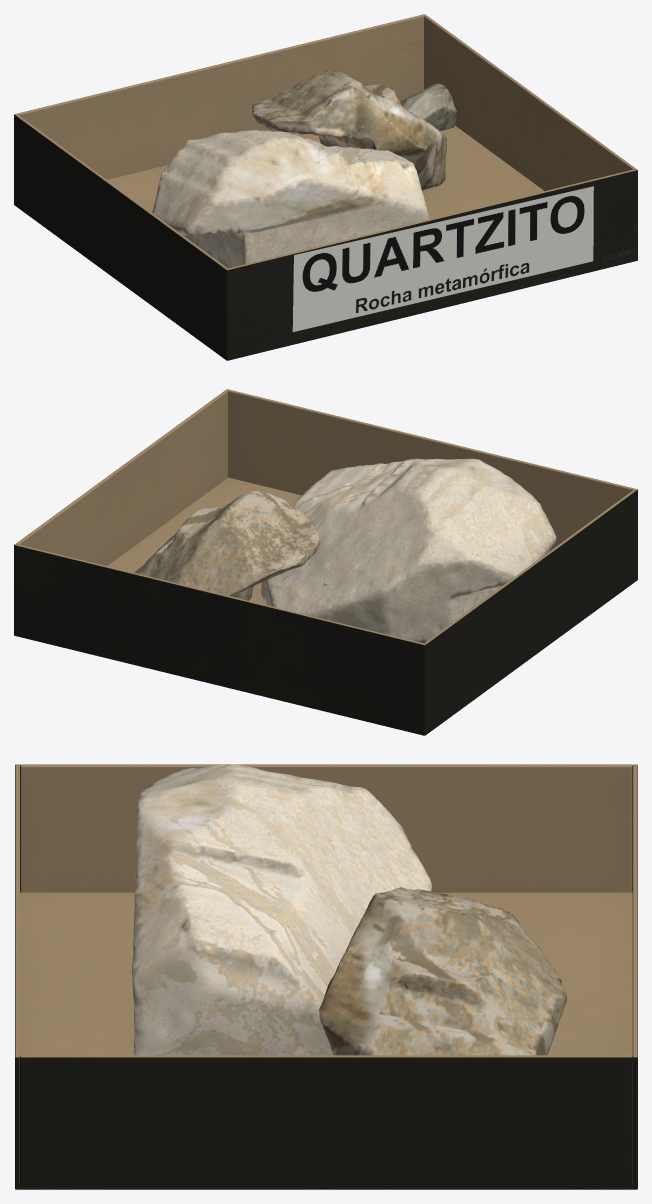
Rendered from rocha_02_15_quartzito.glb.
3 views of the same model, one above another, from view 1: azimuth 30°, elevation 25°; view 2: azimuth 150°, elevation 25°; view 3: azimuth 270°, elevation 25° (orthographic). The views are drawn at different scales.
Parts seen in each view (by area): view 1: Fragmento_01_mo15, Bandeja_Fundo_mo15, Etiqueta_mo15, Bandeja_Esquerda_mo15, Bandeja_Frente_mo15, Bandeja_Direita_mo15, Fragmento_02_mo15, Bandeja_Base_mo15, Fragmento_03_mo15; view 2: Bandeja_Fundo_mo15, Fragmento_01_mo15, Bandeja_Esquerda_mo15, Bandeja_Frente_mo15, Bandeja_Direita_mo15, Fragmento_02_mo15, Bandeja_Base_mo15; view 3: Bandeja_Direita_mo15, Fragmento_01_mo15, Bandeja_Esquerda_mo15, Bandeja_Base_mo15, Fragmento_02_mo15, Bandeja_Fundo_mo15, Bandeja_Frente_mo15.
Boxes of the visible parts, x1,y1,x2,y2 form: Fragmento_01_mo15: (152,130,428,268); Bandeja_Fundo_mo15: (14,14,426,204); Etiqueta_mo15: (292,186,593,331); Bandeja_Esquerda_mo15: (15,115,227,358); Bandeja_Frente_mo15: (225,169,637,360); Bandeja_Direita_mo15: (424,15,635,190); Fragmento_02_mo15: (252,69,446,190); Bandeja_Base_mo15: (14,125,567,360); Fragmento_03_mo15: (400,83,456,130); Bandeja_Fundo_mo15: (14,544,426,735); Fragmento_01_mo15: (260,458,556,643); Bandeja_Esquerda_mo15: (424,490,636,733); Bandeja_Frente_mo15: (225,389,637,577); Bandeja_Direita_mo15: (16,390,227,565); Fragmento_02_mo15: (134,490,320,600); Bandeja_Base_mo15: (14,477,637,735); Bandeja_Direita_mo15: (20,1055,632,1184); Fragmento_01_mo15: (131,764,431,1055); Bandeja_Esquerda_mo15: (20,764,632,892); Bandeja_Base_mo15: (15,892,637,1189); Fragmento_02_mo15: (319,887,566,1055); Bandeja_Fundo_mo15: (632,764,637,1189); Bandeja_Frente_mo15: (15,764,19,1189).
Size of the model in its own units: 0.1971 by 0.0633 by 0.1773.
3 materials, 3 textured.
